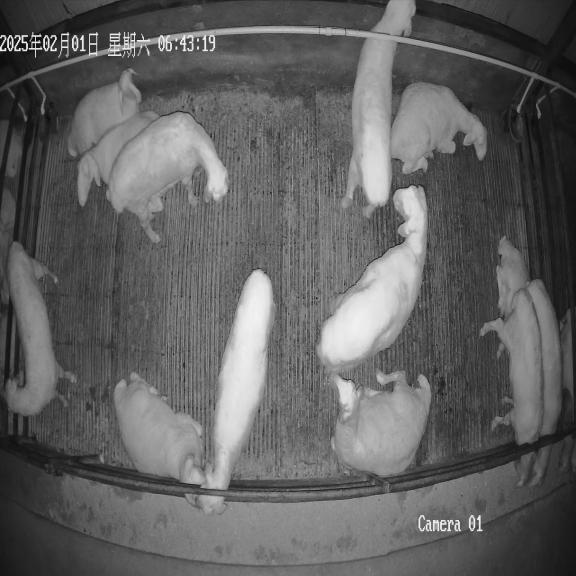eating: (480, 286, 544, 487), (527, 279, 562, 486)
lying: (331, 371, 431, 477), (114, 372, 205, 485), (391, 82, 487, 174), (77, 111, 158, 206), (67, 68, 141, 157), (496, 236, 530, 318)
stand: (317, 186, 428, 374), (200, 269, 275, 490), (342, 0, 416, 217), (107, 112, 229, 242), (4, 242, 76, 416), (195, 495, 225, 514)
